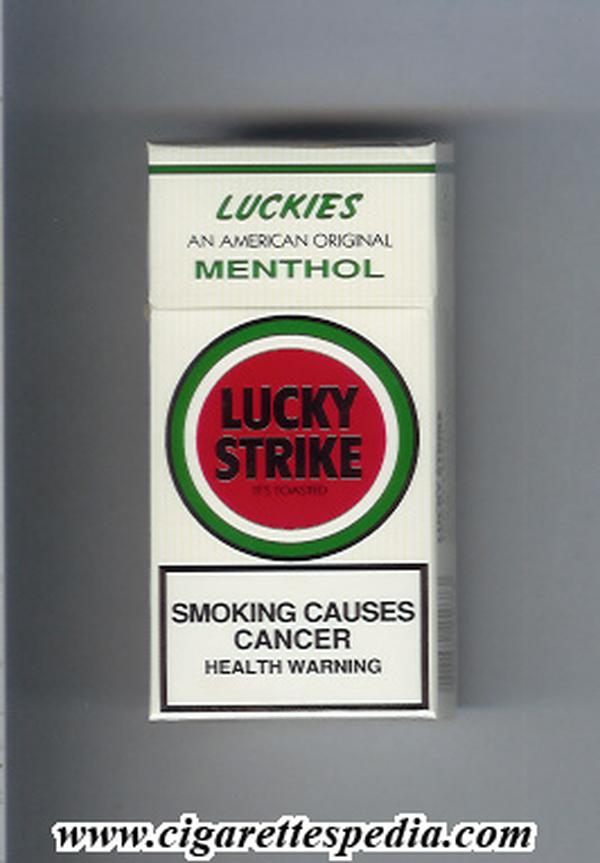lucky_strike_red: (150, 143, 446, 719)
